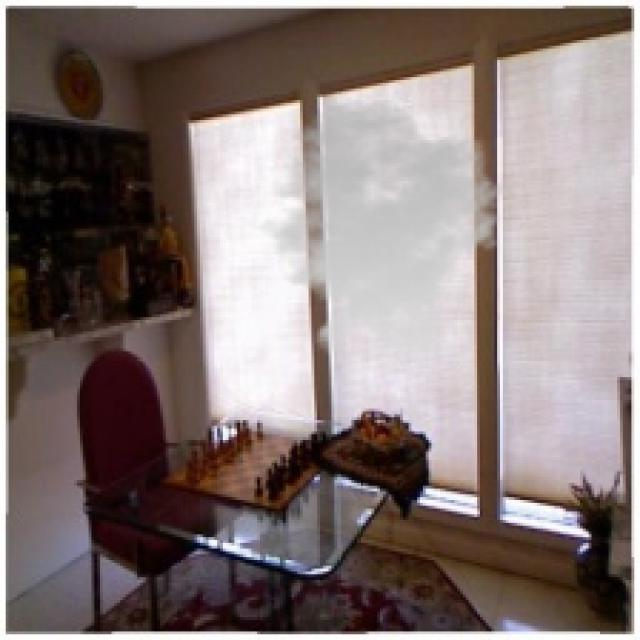smoke: (240, 97, 511, 366)
